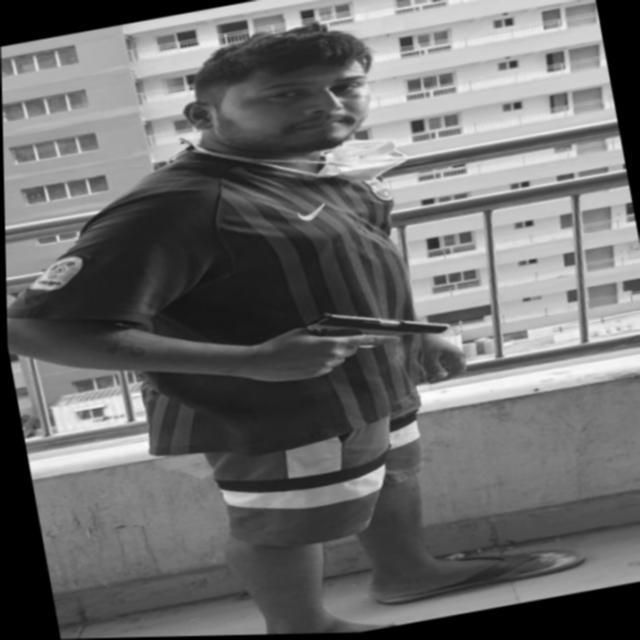weapon: (261, 288, 466, 386)
